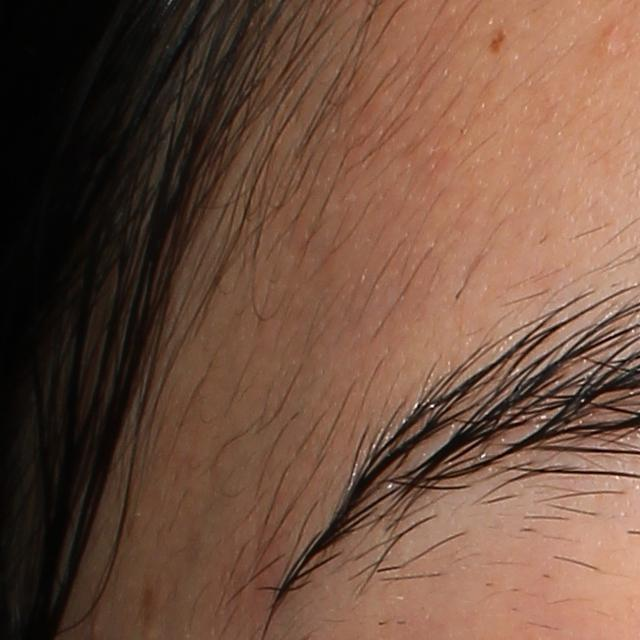nevus: (486, 28, 511, 56)
